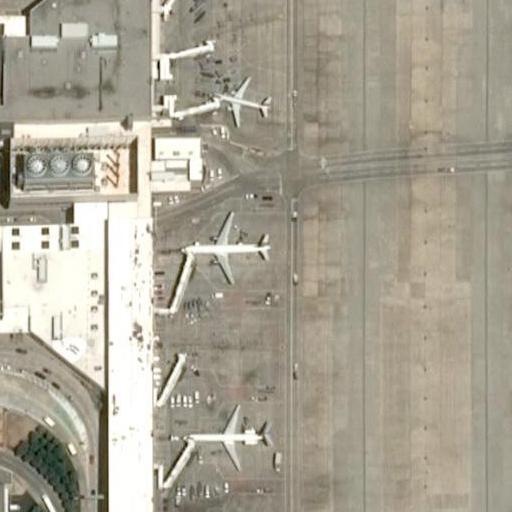Aircraft: (180, 402, 276, 477), (179, 215, 278, 286), (208, 73, 276, 125)
